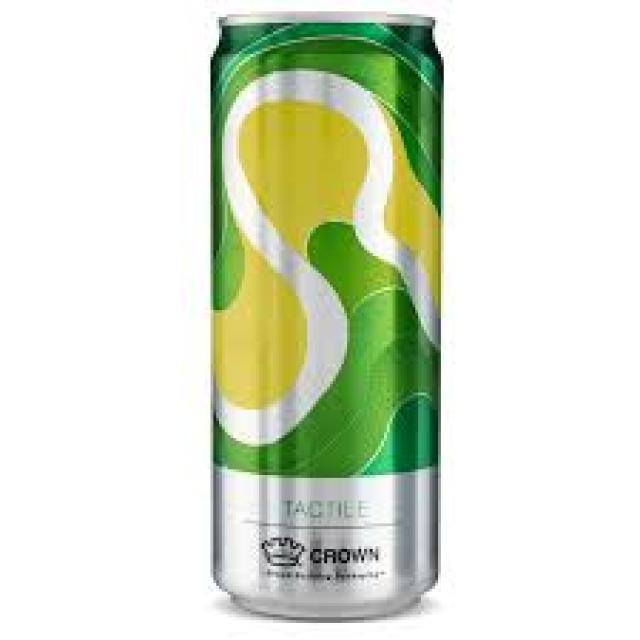Cans: (202, 6, 447, 614)
